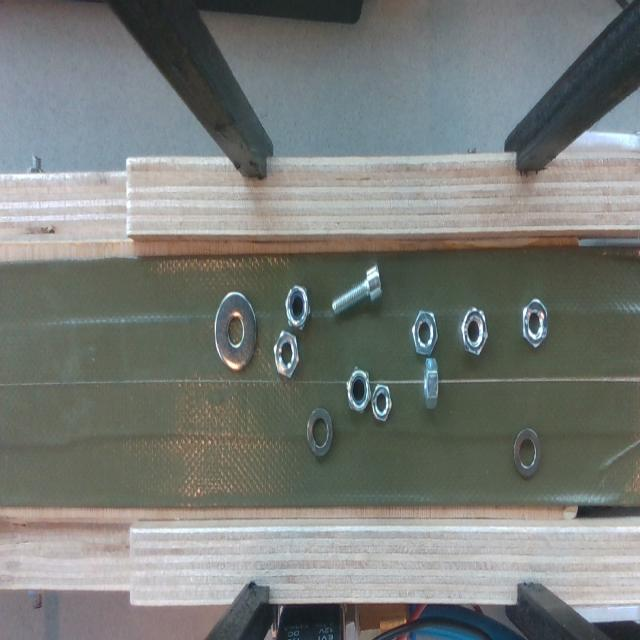Bolt: (332, 264, 381, 314)
Nut: (461, 307, 488, 354), (522, 300, 548, 347), (274, 331, 299, 377), (412, 312, 438, 356), (285, 285, 310, 329), (346, 369, 371, 412), (424, 357, 439, 409), (371, 385, 391, 421)
washer: (215, 293, 256, 371), (514, 431, 540, 478), (308, 409, 332, 457)
